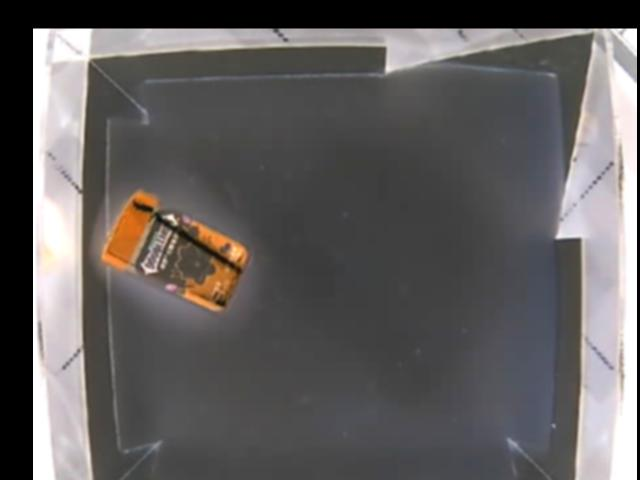Bottle: (100, 190, 251, 314)
